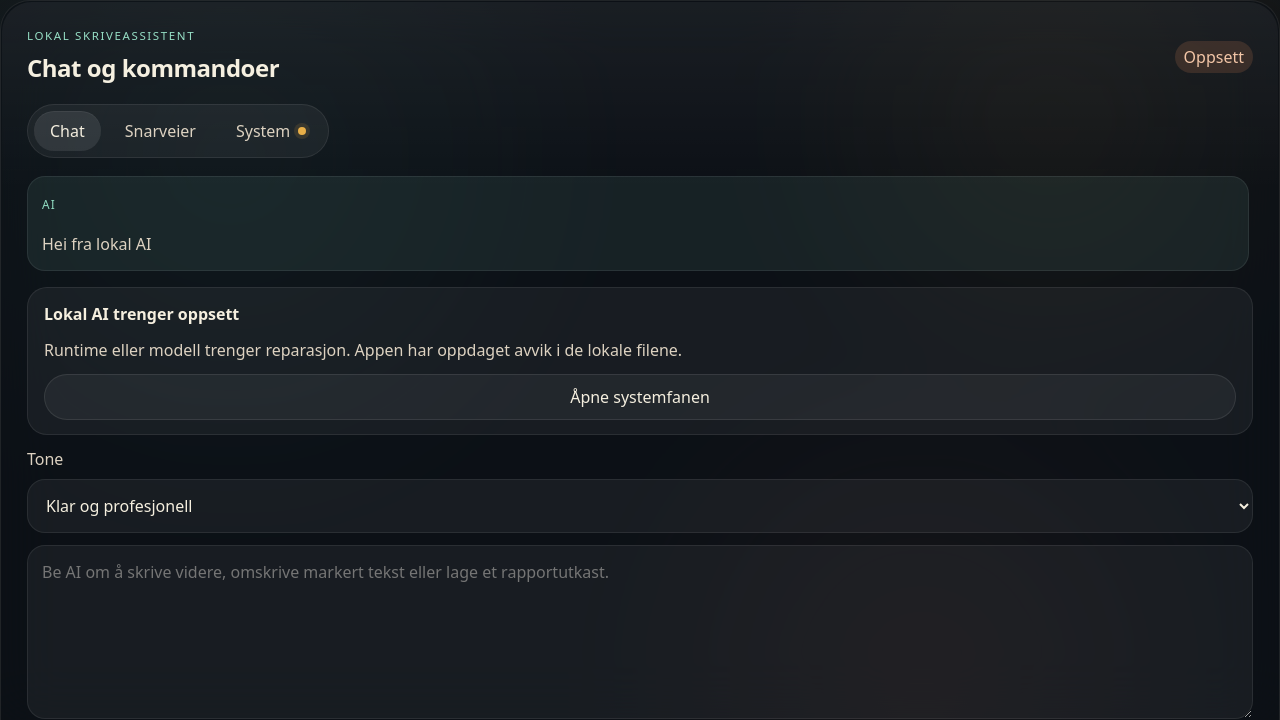
ChatPane › shows a setup notice in chat if the runtime becomes unavailable and opens the system tab from the CTA
The image size is (1280, 720).
Expected: the text "Lokal AI trenger oppsett" is shown, [44,303,239,325]
Step 1. Click the button "Åpne systemfanen" → (640,397), box [44,374,1236,420]
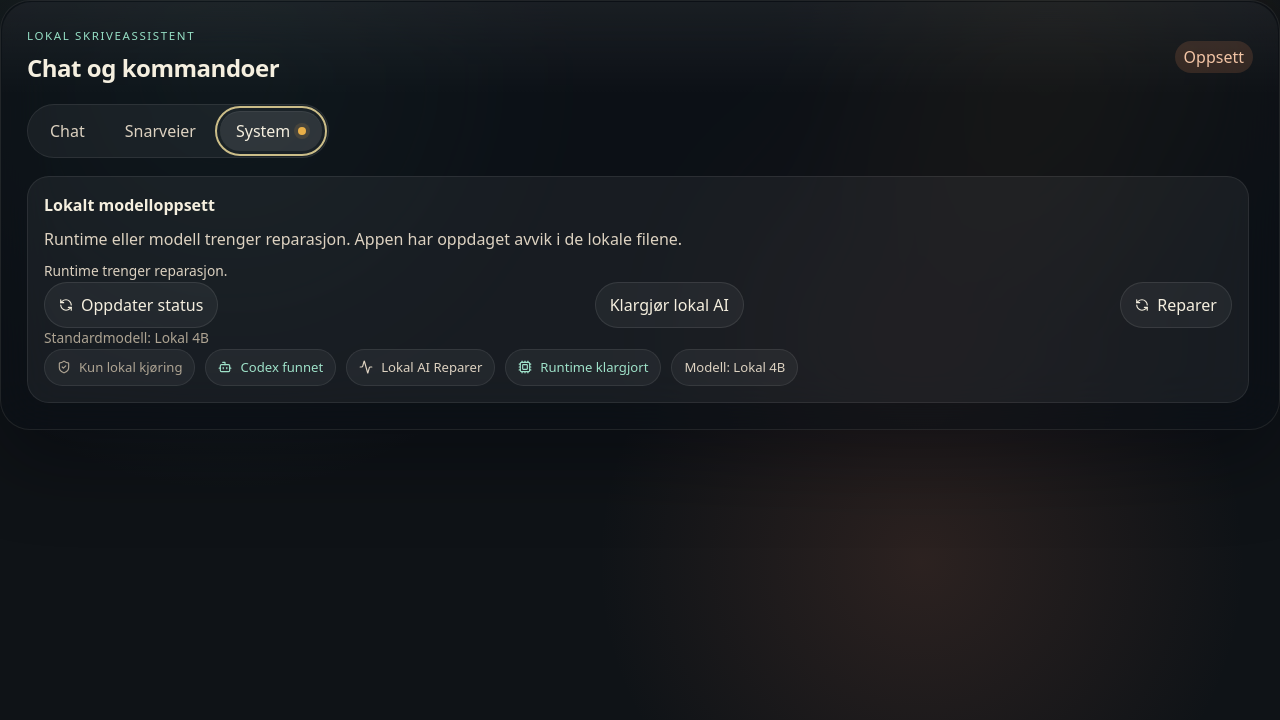
Expected: the text "Lokalt modelloppsett" is shown, [44,194,215,216]
